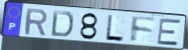8: (79, 12, 100, 40)
D: (50, 9, 75, 39)
E: (156, 19, 182, 47)
F: (130, 15, 157, 44)
L: (104, 14, 126, 43)
R: (23, 8, 49, 37)
